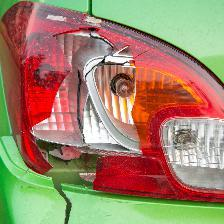tail_lamp: (3, 14, 165, 185)
